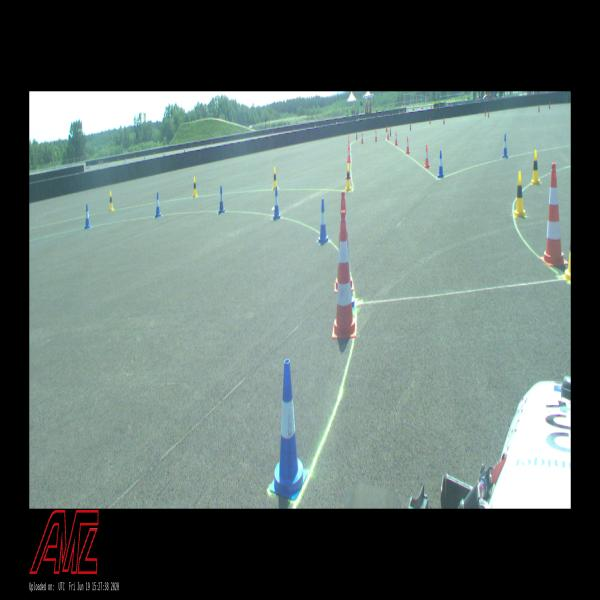blue_cone: (270, 360, 307, 500), (347, 239, 355, 309), (318, 199, 328, 244), (273, 187, 281, 219), (218, 186, 225, 213), (84, 204, 91, 229), (155, 192, 161, 218), (438, 151, 444, 177), (502, 134, 508, 158)
large_orange_cone: (332, 212, 356, 337), (540, 163, 568, 265), (335, 192, 354, 292)
orange_cone: (424, 145, 430, 168), (346, 158, 351, 179), (406, 137, 410, 154), (347, 146, 351, 162), (395, 132, 398, 145), (361, 132, 364, 144), (387, 128, 389, 140), (375, 130, 377, 142), (348, 134, 350, 146), (348, 140, 350, 152)
yellow_cone: (514, 172, 526, 217), (531, 150, 540, 185), (564, 238, 570, 283), (346, 164, 352, 190), (272, 167, 278, 189), (193, 177, 198, 197), (109, 191, 114, 211)
